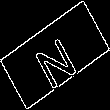N_NW: (29, 23, 81, 87)
